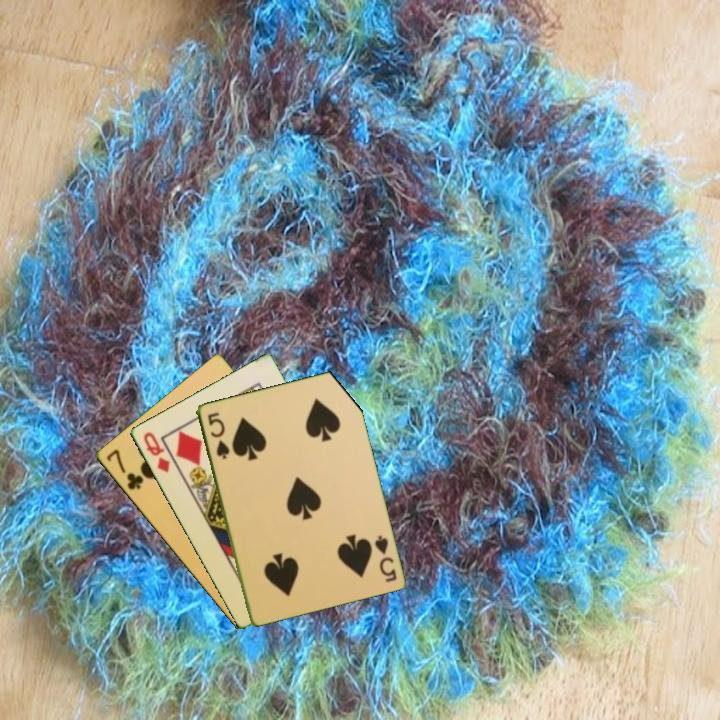5s: (204, 408, 232, 462), (371, 531, 399, 585)
7c: (102, 446, 146, 493)
Qd: (139, 428, 172, 475)
